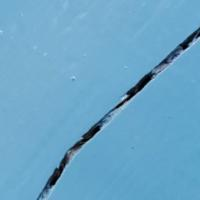crack: (33, 19, 200, 199)
